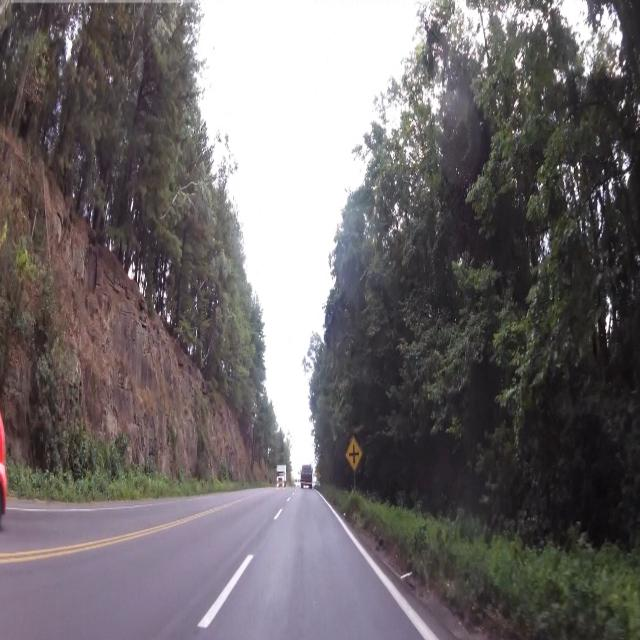A-6: (346, 435, 362, 472)
